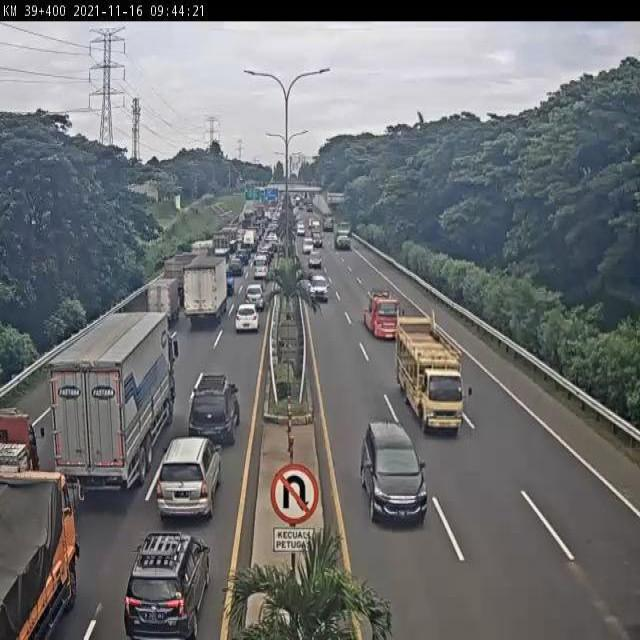car: (122, 530, 211, 640), (363, 418, 428, 526), (157, 435, 221, 521), (191, 368, 236, 444), (232, 303, 265, 336), (238, 287, 266, 305), (311, 274, 330, 298), (251, 260, 268, 281), (227, 258, 241, 282), (308, 250, 323, 266), (302, 237, 314, 255), (313, 229, 323, 248), (297, 220, 305, 235), (310, 219, 317, 225)
small truck: (393, 308, 472, 437), (365, 289, 401, 343), (141, 280, 177, 325), (321, 215, 334, 232)
truck-l-: (48, 311, 181, 498), (334, 222, 353, 254)
truck-m-: (0, 472, 77, 640), (181, 252, 228, 325)
